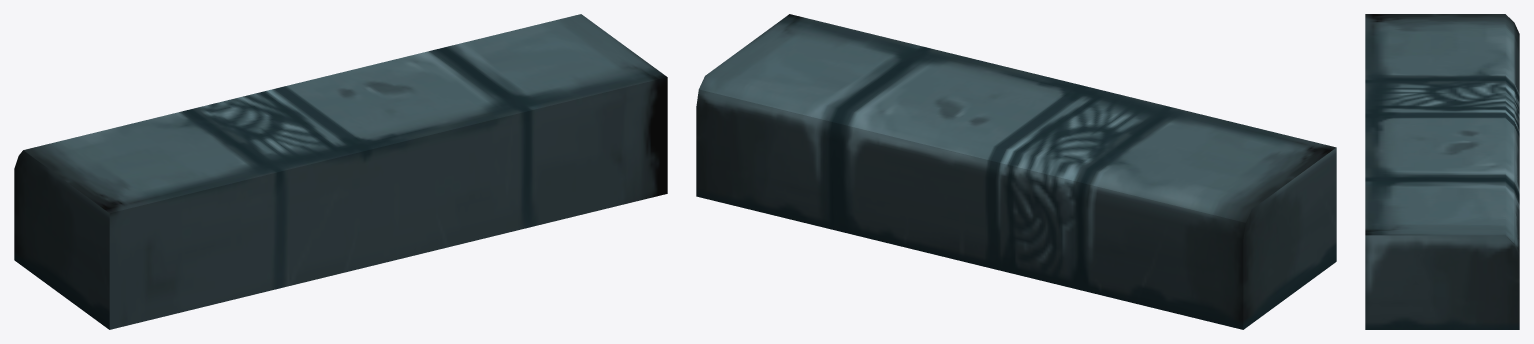
The model's file is stair02.fbx.
The picture shows the model from 3 angles, left to right: view 1: azimuth 30°, elevation 25°; view 2: azimuth 150°, elevation 25°; view 3: azimuth 270°, elevation 25°; orthographic projection. The views are drawn at different scales.
Parts seen in each view (by area): view 1: pCube26; view 2: pCube26; view 3: pCube26.
Part boxes in pixels (x1=…): pCube26: x1=14, y1=14, x2=667, y2=329; pCube26: x1=696, y1=14, x2=1336, y2=329; pCube26: x1=1365, y1=14, x2=1519, y2=329.
Bounding box in the file's own units: 201 × 40.01 × 59.12.
